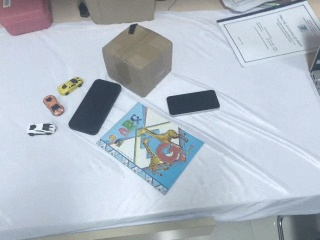book: (94, 99, 208, 199)
box: (103, 23, 174, 98), (77, 1, 157, 27)
phone: (67, 77, 124, 137), (167, 89, 220, 117)
toy_car: (42, 94, 65, 117), (58, 77, 84, 96), (27, 122, 57, 136)
